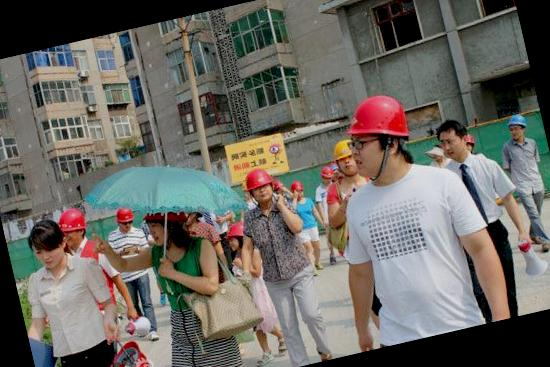helmet: (338, 90, 420, 160), (50, 200, 94, 238), (238, 163, 279, 200)
no_vest: (332, 158, 498, 350), (27, 247, 122, 366), (236, 194, 317, 291), (148, 229, 230, 322)
person: (278, 88, 466, 358), (224, 159, 336, 367), (135, 188, 259, 367), (10, 193, 130, 367)
